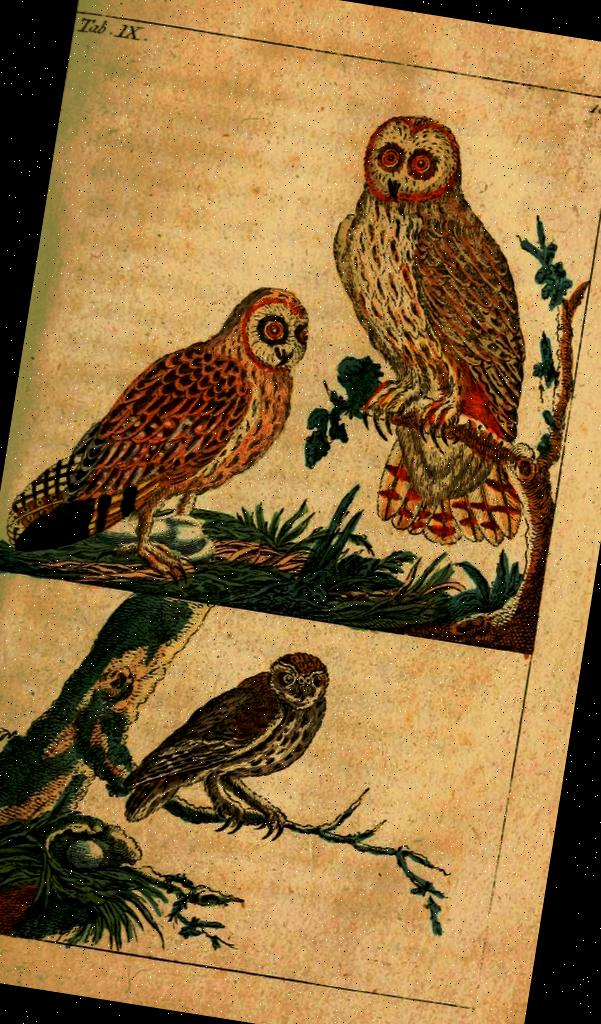Owl: (279, 94, 585, 560), (0, 245, 322, 597), (112, 622, 330, 855)
